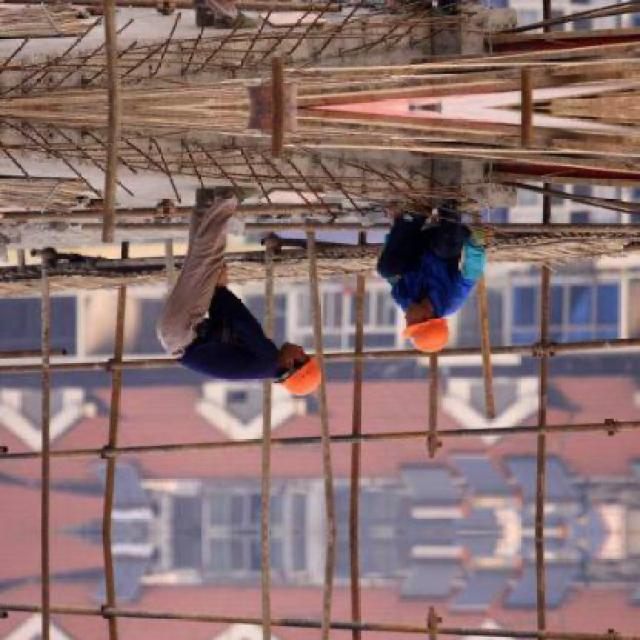con casco: (362, 267, 500, 374), (256, 328, 354, 410)
